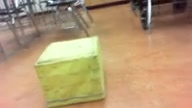cube: (33, 35, 105, 108)
